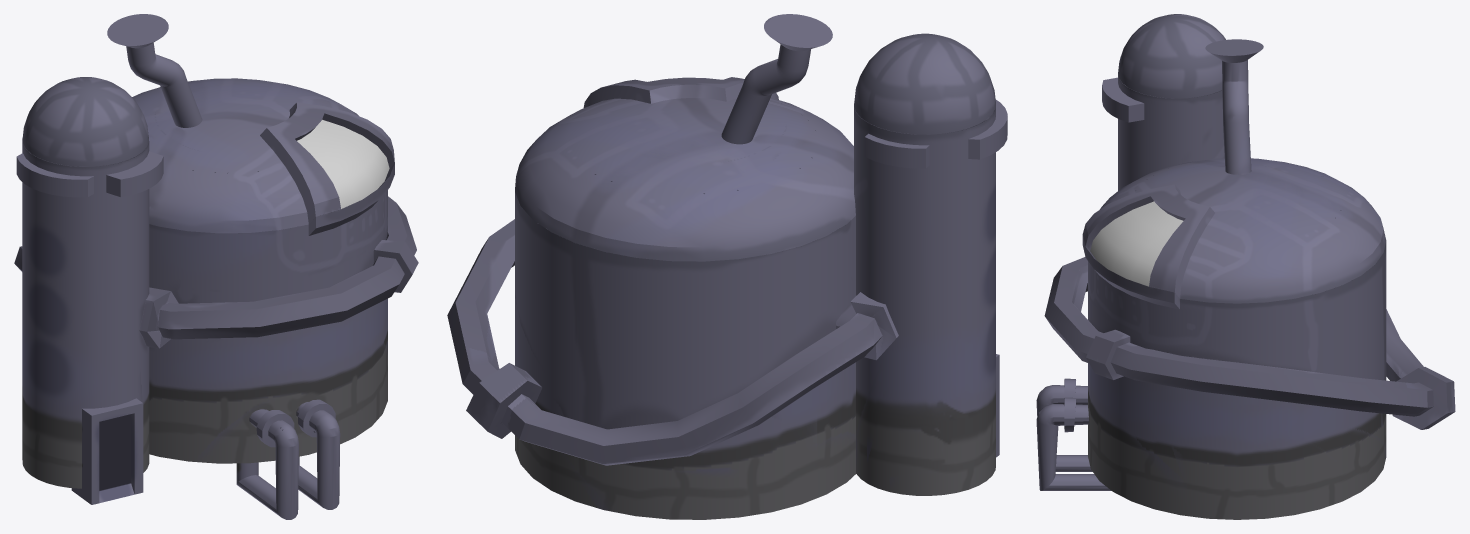
File: chemical_plant.fbx
3 renders of one model, left to right at view 1: azimuth 30°, elevation 25°; view 2: azimuth 150°, elevation 25°; view 3: azimuth 270°, elevation 25°, orthographic. The views are drawn at different scales.
Visible parts, largest first — view 1: Cube, Window; view 2: Cube; view 3: Cube, Window.
Part boxes in pixels (x1,y1,x2,y2): Cube: (14,14,418,519); Window: (297,119,389,208); Cube: (447,14,1007,519); Cube: (1036,14,1455,519); Window: (1090,201,1183,286).
Bounding box in the file's own units: 1175 × 1196 × 1124.
